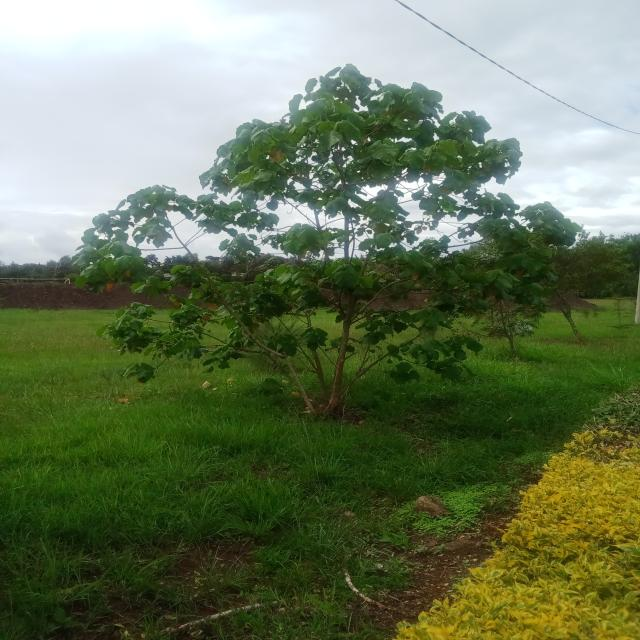Croton machrostychus: (86, 62, 584, 424)
